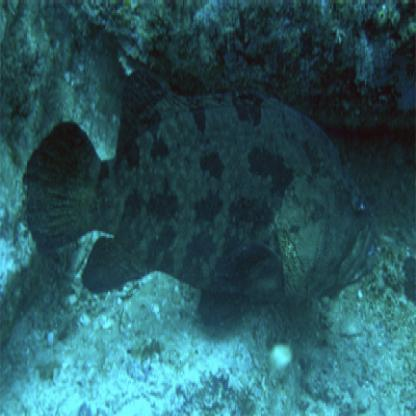Bio: (22, 60, 384, 334)
